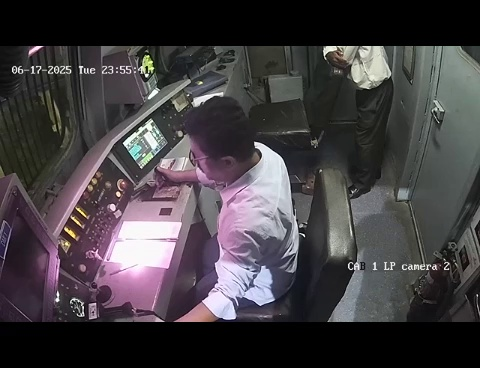horn_inactive: (81, 269, 124, 307)
